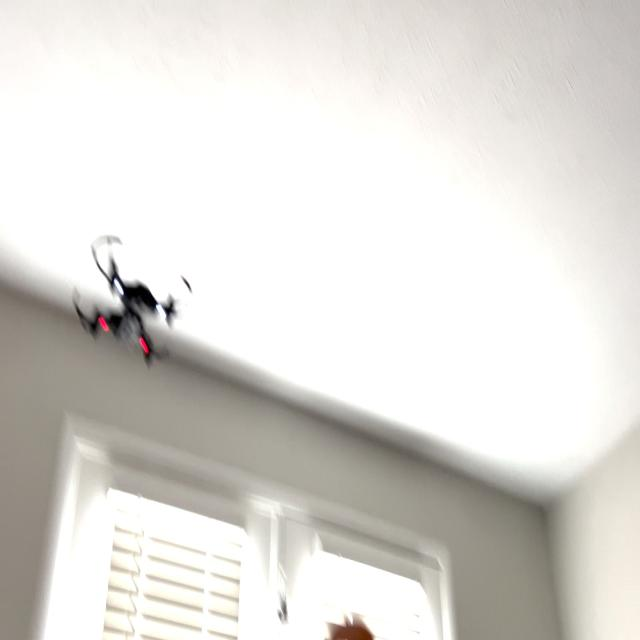drone: (59, 218, 205, 378)
